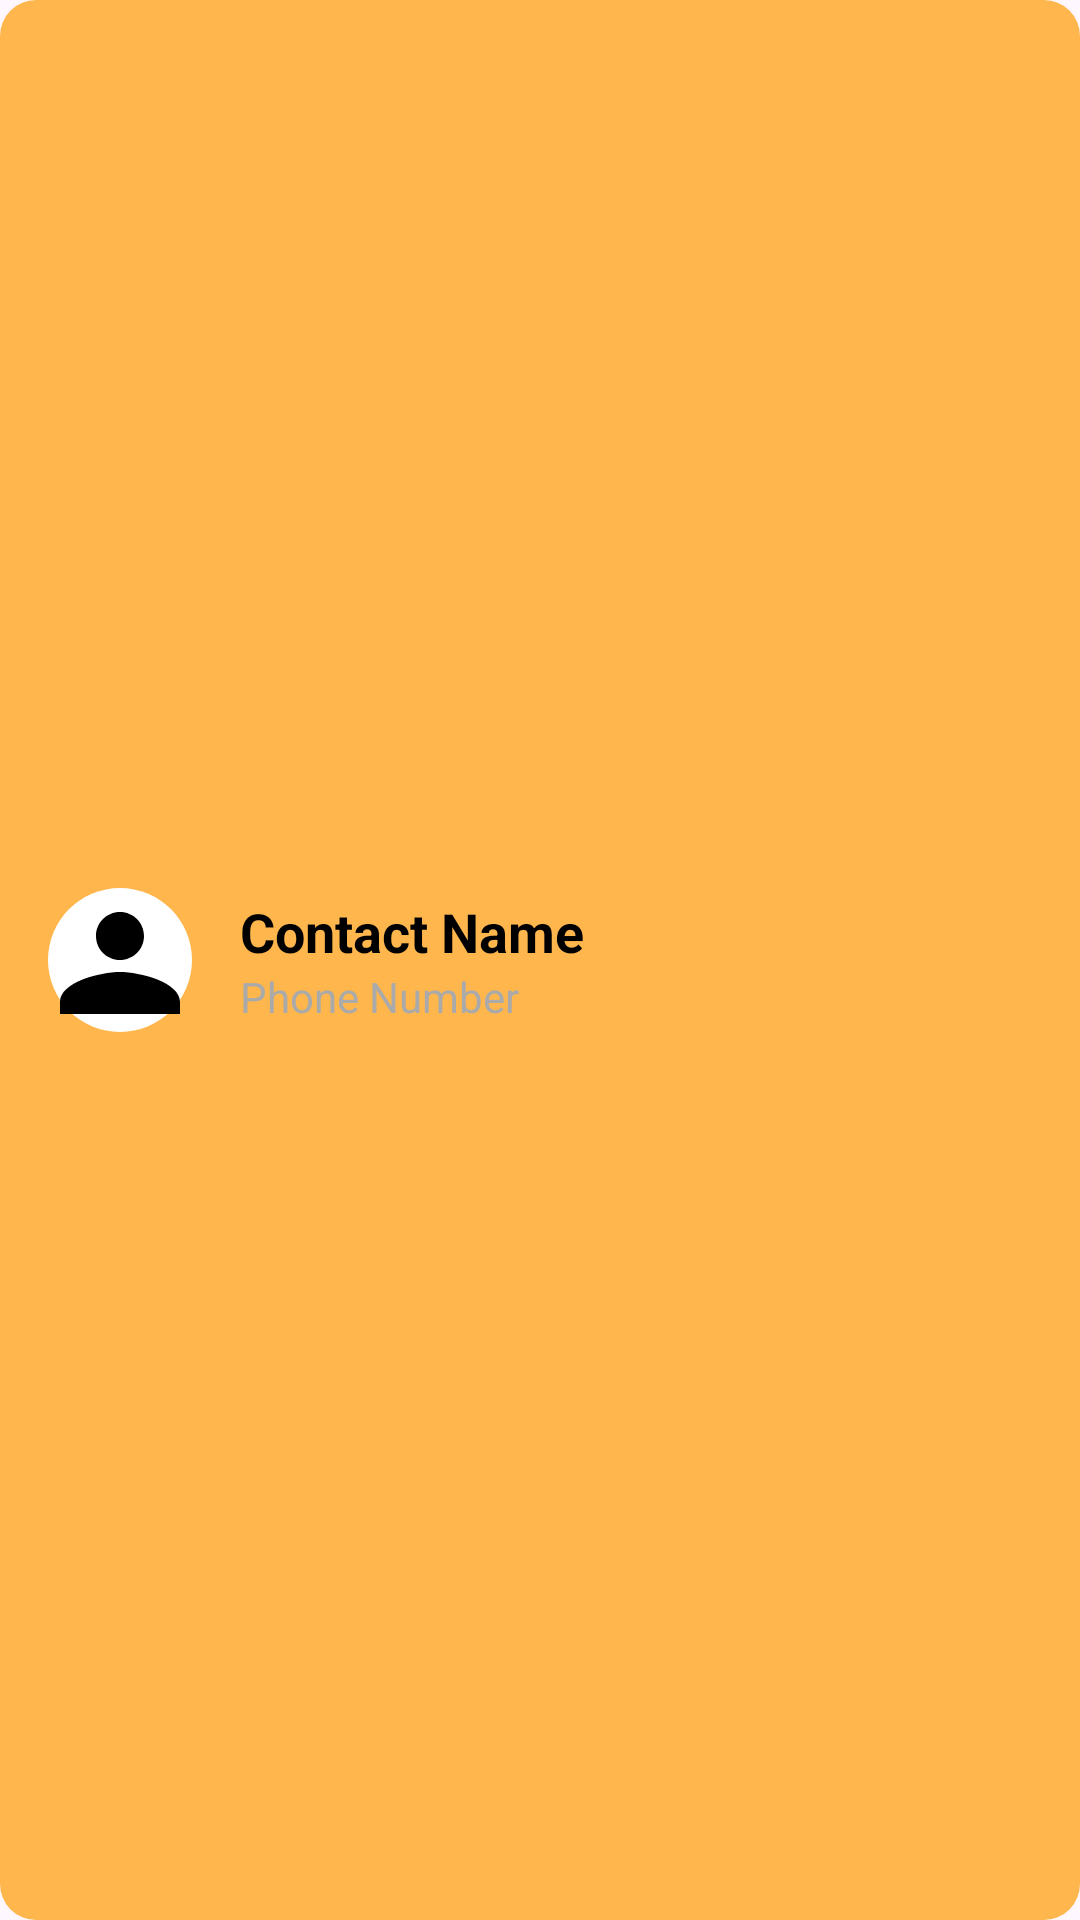

Where to tap for icons on this 1080 × 1920 app screen, as (x,y):
user: (120,960)
